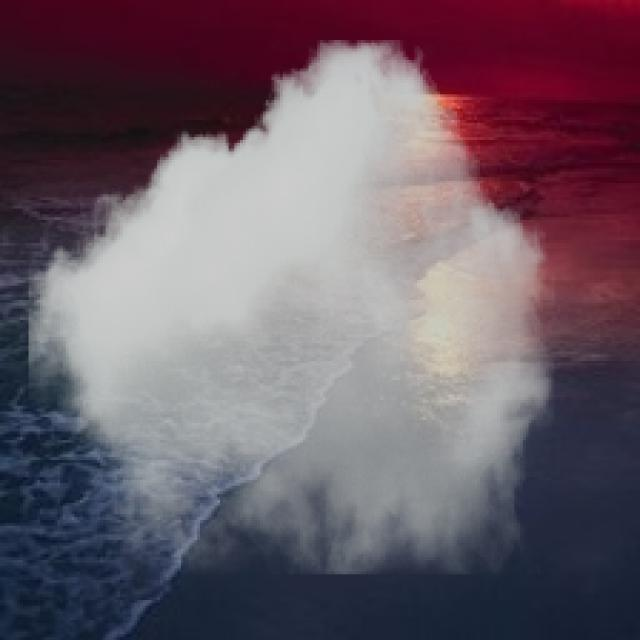Smoke: (28, 39, 554, 574)
